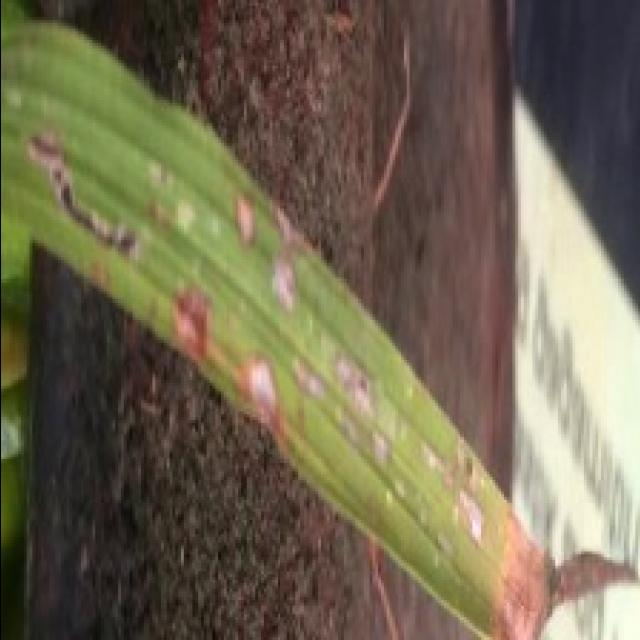Unhealthy: (482, 498, 640, 640), (19, 124, 144, 256), (418, 434, 489, 551), (264, 199, 317, 318), (230, 348, 282, 451), (171, 283, 215, 364), (330, 348, 376, 420), (287, 355, 326, 400), (233, 190, 257, 249), (438, 531, 458, 584), (335, 406, 361, 443), (385, 477, 406, 509)
